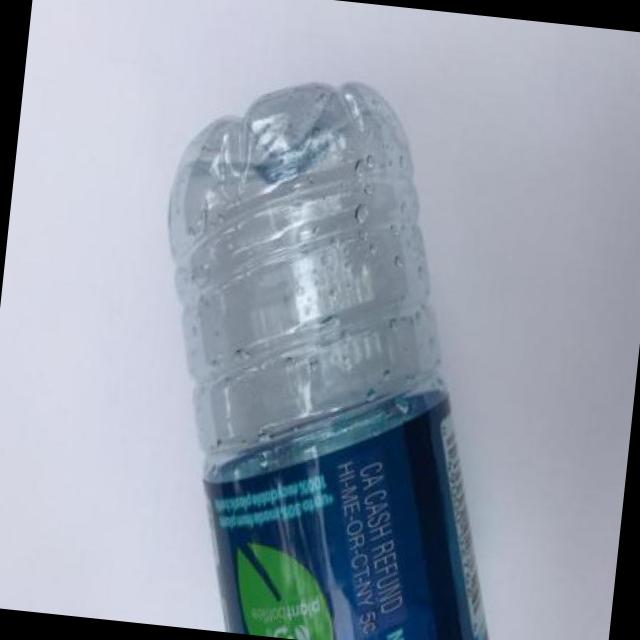plastic_bottle: (123, 62, 551, 640)
